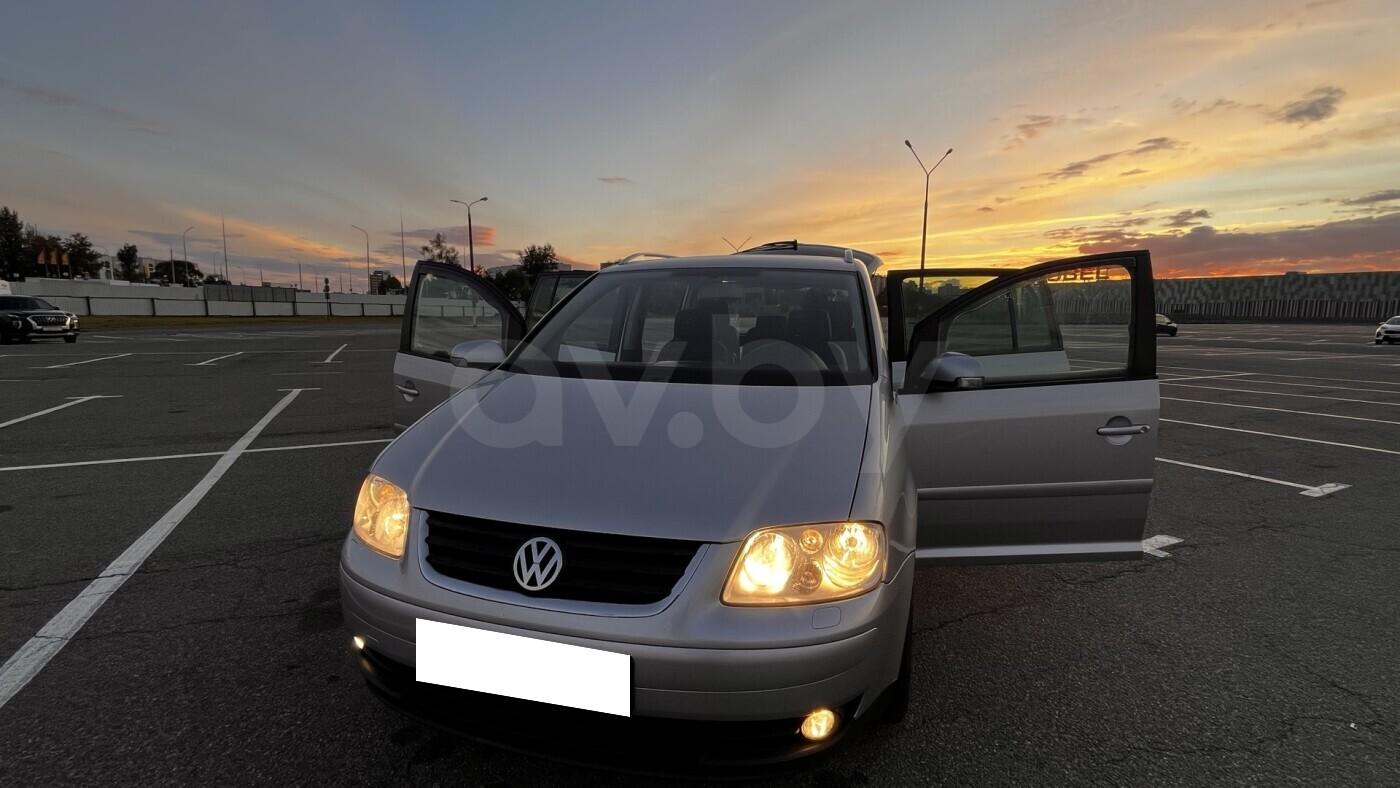Touran_2003-2006: (341, 241, 1168, 764)
